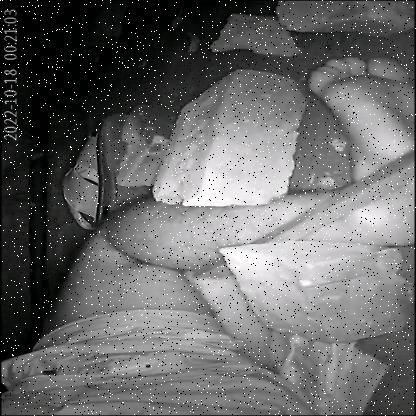leg: (50, 44, 416, 310)
